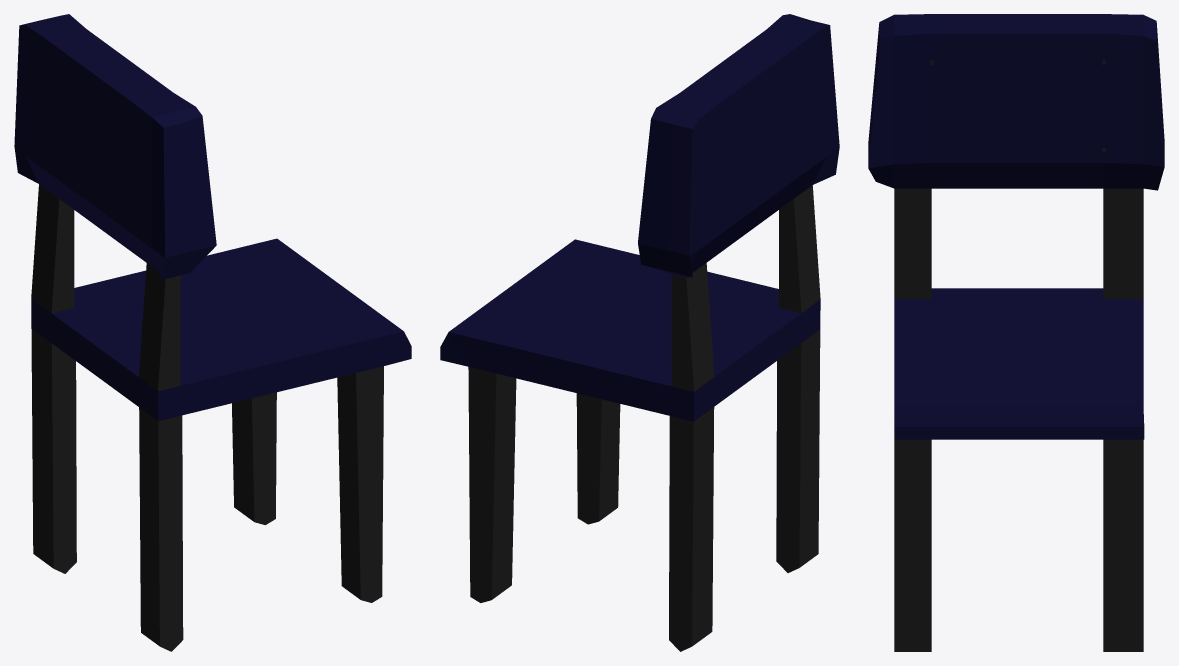
Rendered from chair.fbx.
3 renders of one model, left to right at view 1: azimuth 30°, elevation 25°; view 2: azimuth 150°, elevation 25°; view 3: azimuth 270°, elevation 25°, orthographic.
Visible parts, largest first — view 1: Cube; view 2: Cube; view 3: Cube.
Boxes of the visible parts, left/top/right/bottom form: Cube: left=14, top=14, right=411, bottom=651; Cube: left=440, top=14, right=839, bottom=651; Cube: left=868, top=14, right=1164, bottom=651.
Bounding box in the file's own units: 114 × 226 × 114.
